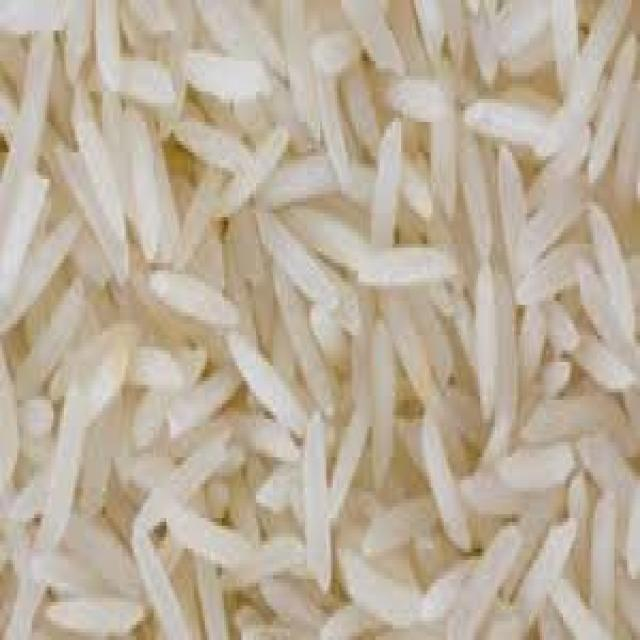White Rice: (81, 56, 398, 502)
